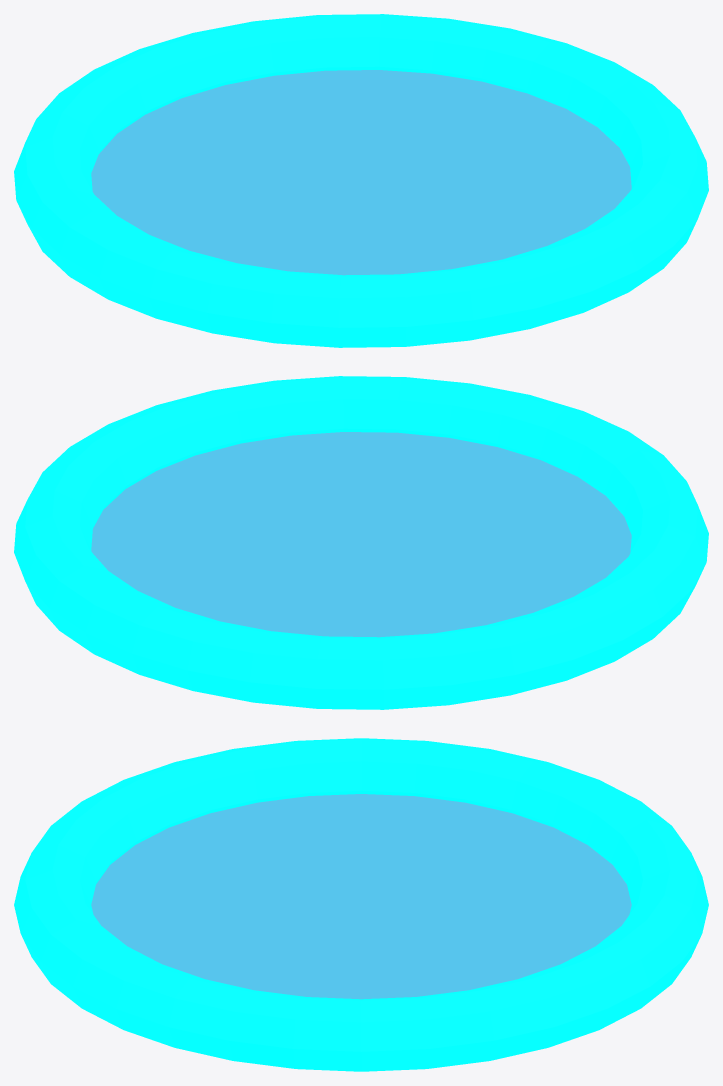
File: head-ring.glb
3 renders of one model, top to bottom at view 1: azimuth 30°, elevation 25°; view 2: azimuth 150°, elevation 25°; view 3: azimuth 270°, elevation 25°, orthographic.
Parts seen in each view (by area): view 1: HeadRing, HeadDisc; view 2: HeadRing, HeadDisc; view 3: HeadRing, HeadDisc.
Part boxes in pixels (x1,y1,x2,y2): HeadRing: (14, 14, 708, 347); HeadDisc: (91, 70, 631, 275); HeadRing: (14, 376, 708, 709); HeadDisc: (91, 432, 631, 637); HeadRing: (14, 738, 708, 1071); HeadDisc: (91, 794, 631, 999).
Size of the model in its own units: 0.81 by 0.09 by 0.81.
